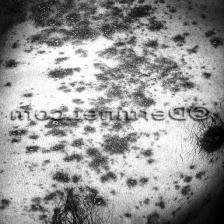Non-Cancerous Skin Condition: (57, 56, 218, 107), (46, 121, 134, 186), (209, 39, 221, 48)
